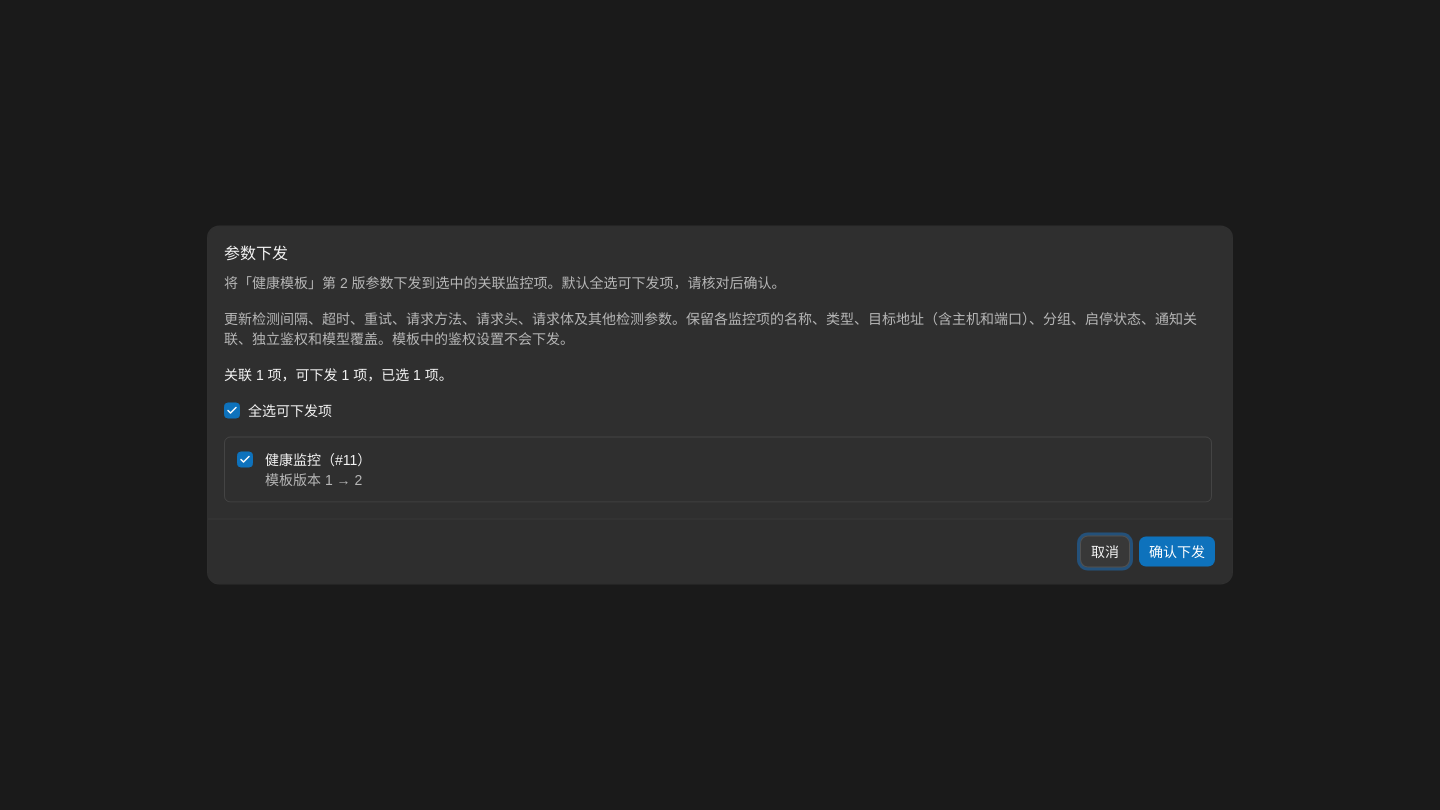
Scenario: requesting 阶段可取消模板下发，保留结果且只提示取消，不误报失败或重提
Click the button "确认下发": point(1177, 552) [1138,536,1216,568]
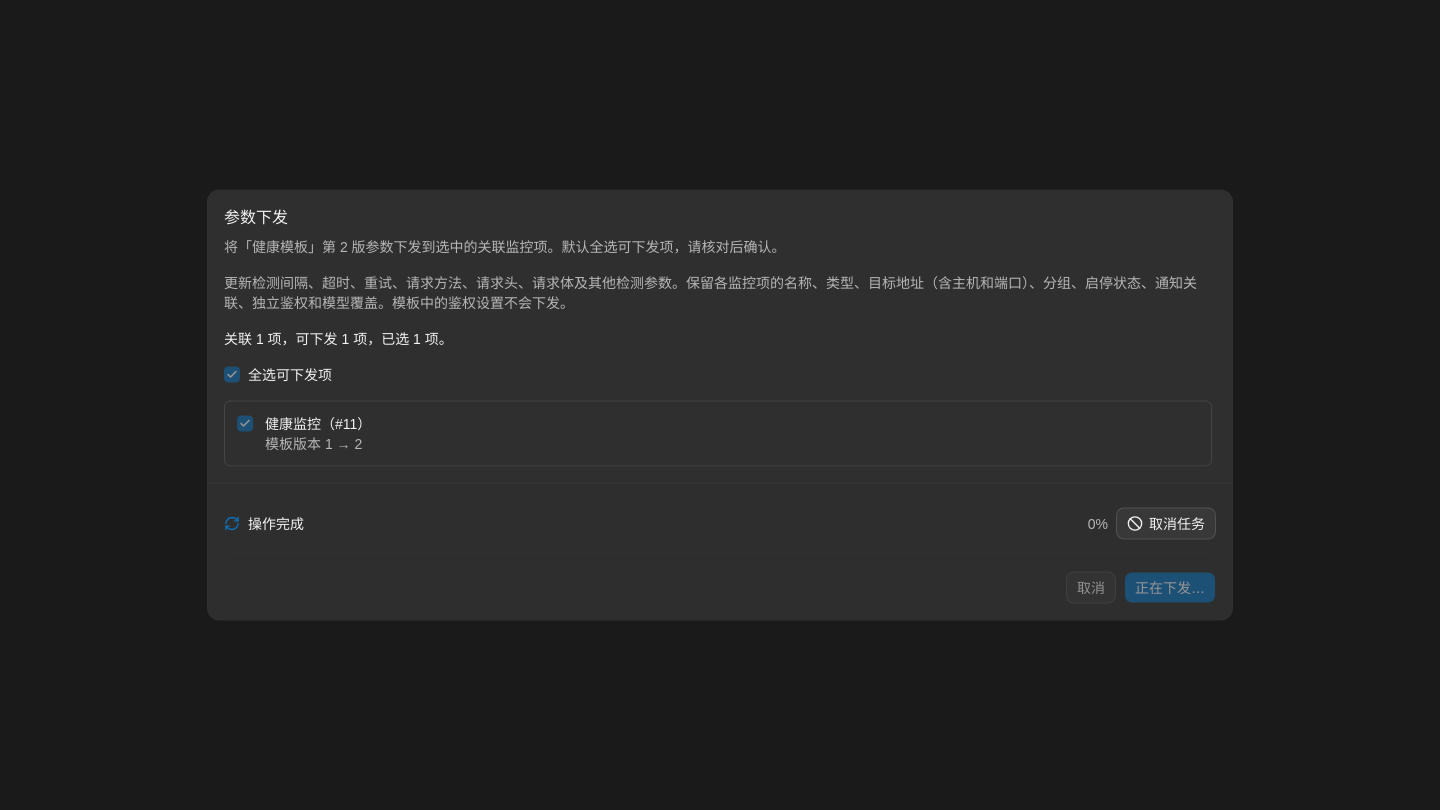
Click the button "取消任务": point(1166, 524) [1116,508,1216,540]
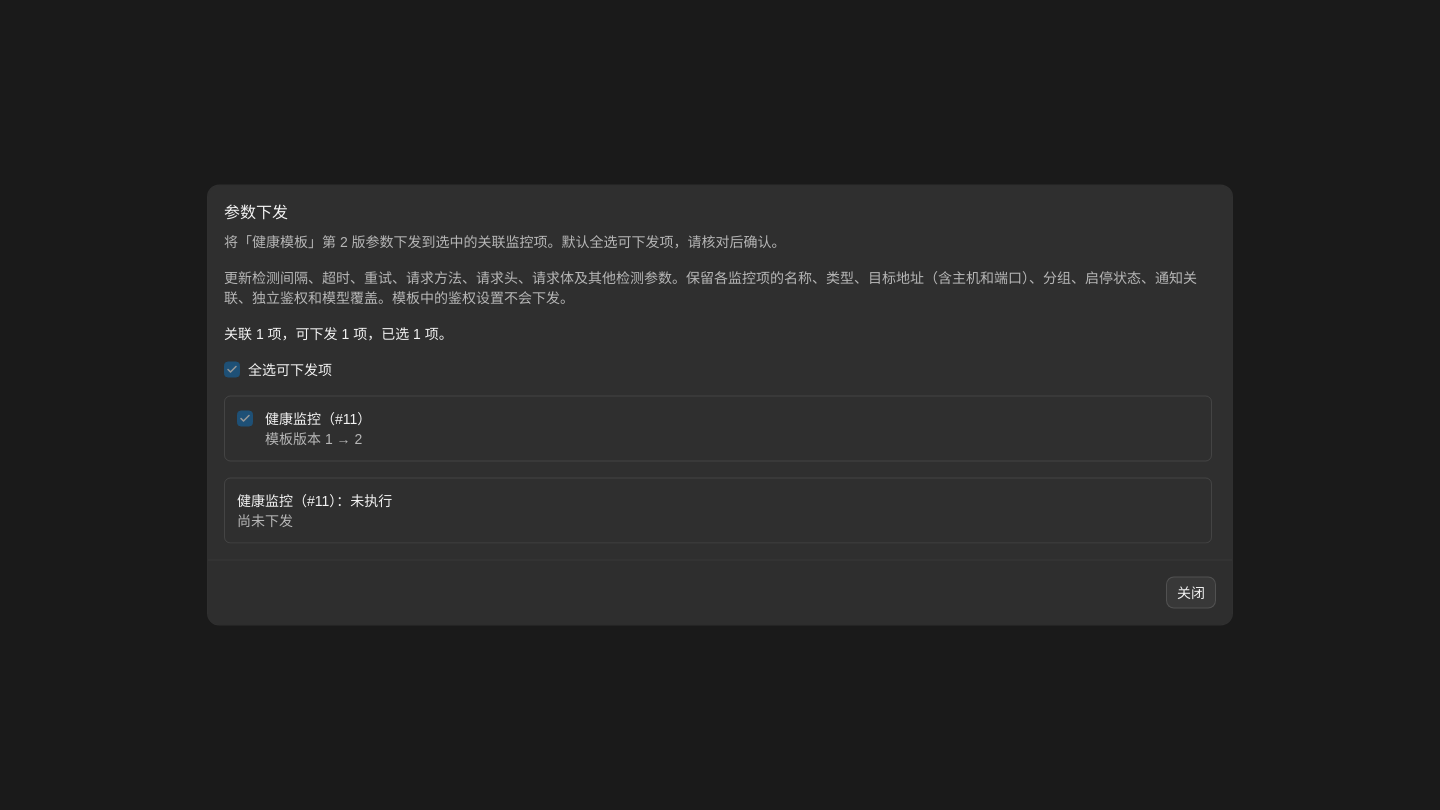
Expected: the button "确认下发" is not shown
Now the list named "参数下发结果" shows "未执行", box [350,492,392,508]
